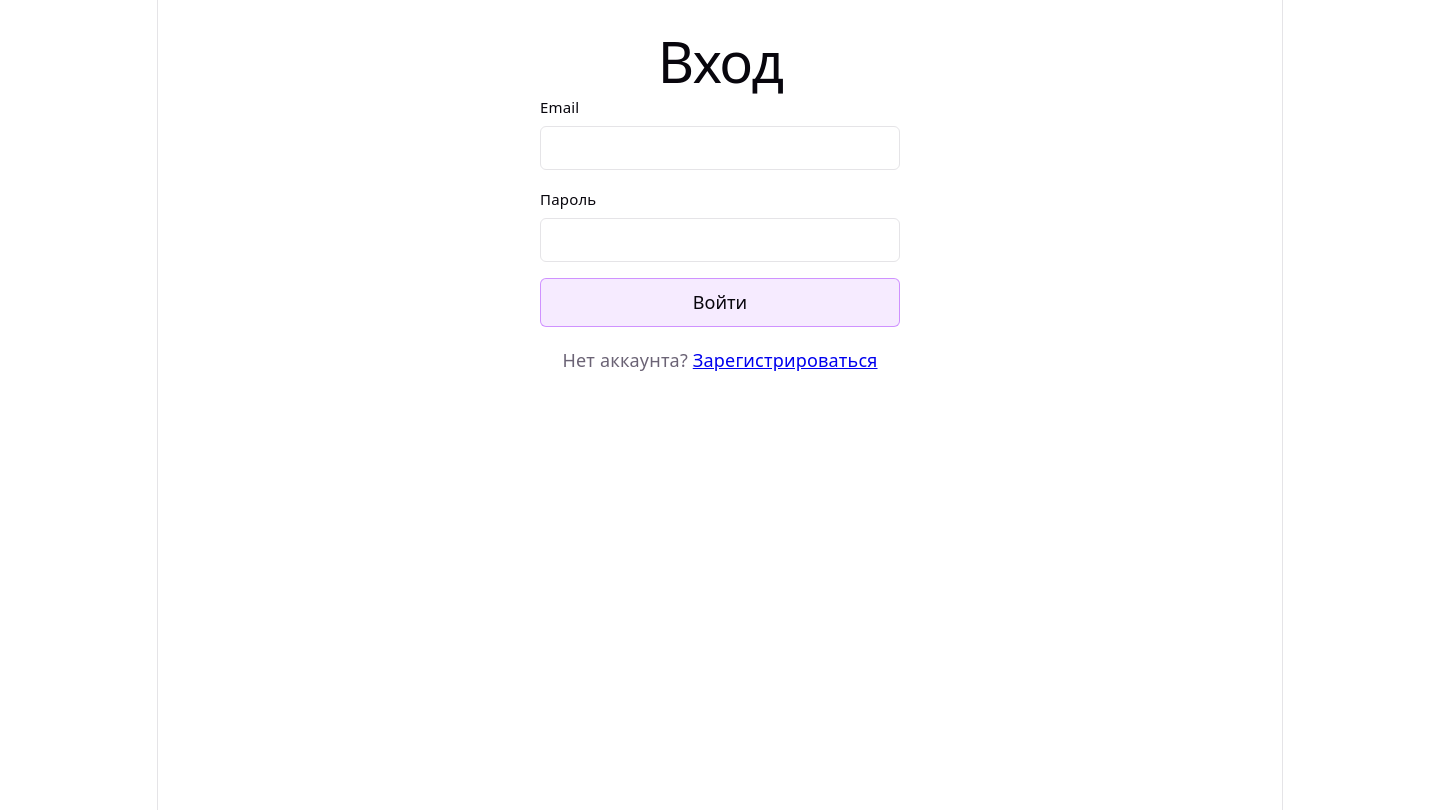
Test: LoginPage › переводит в аутентифицированное состояние при успешном входе
Type "user@example.com" into the field labelled "Email" at (720, 148), box 540,126 -> 900,170
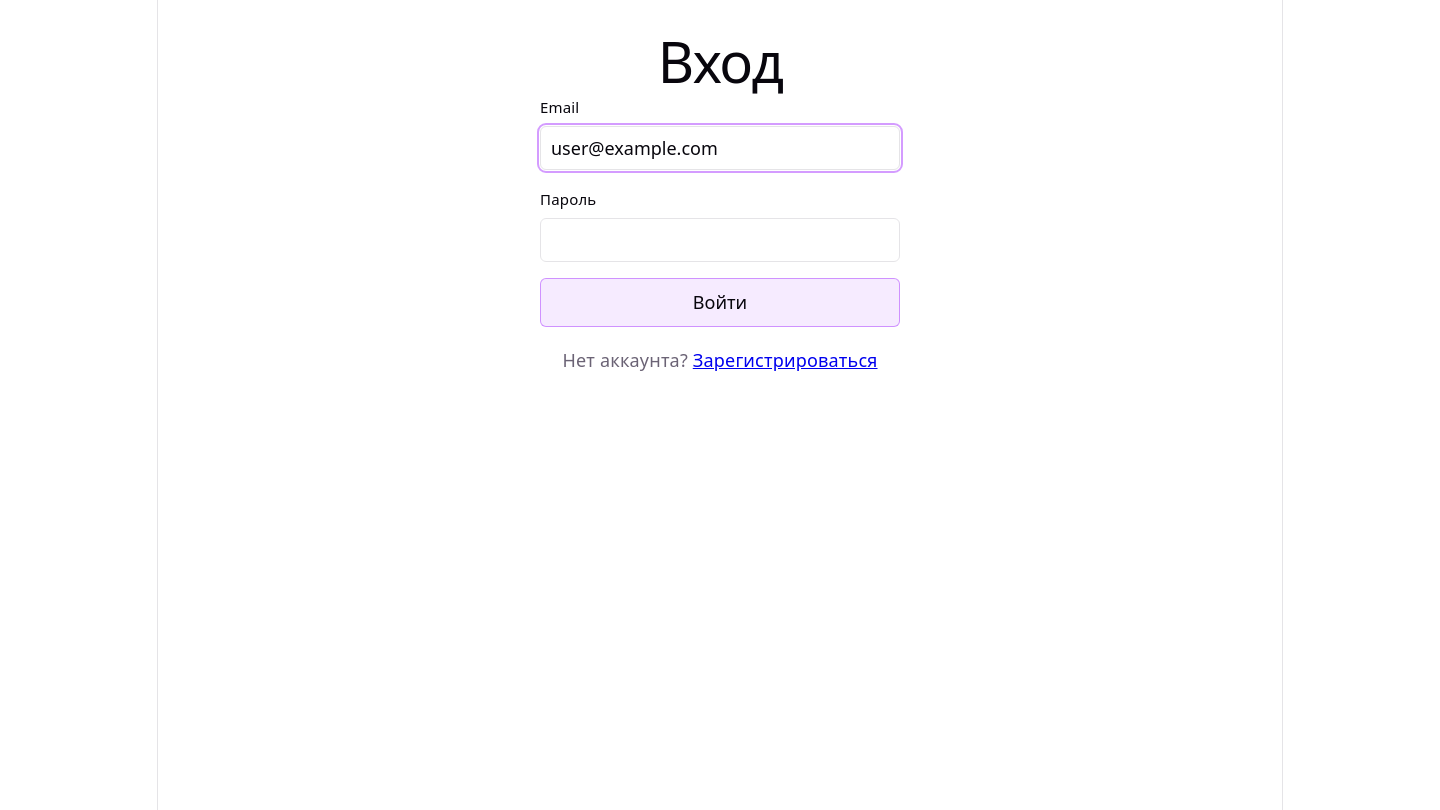
Type "secret123" into the password field labelled "Пароль" at (720, 240), box 540,218 -> 900,262
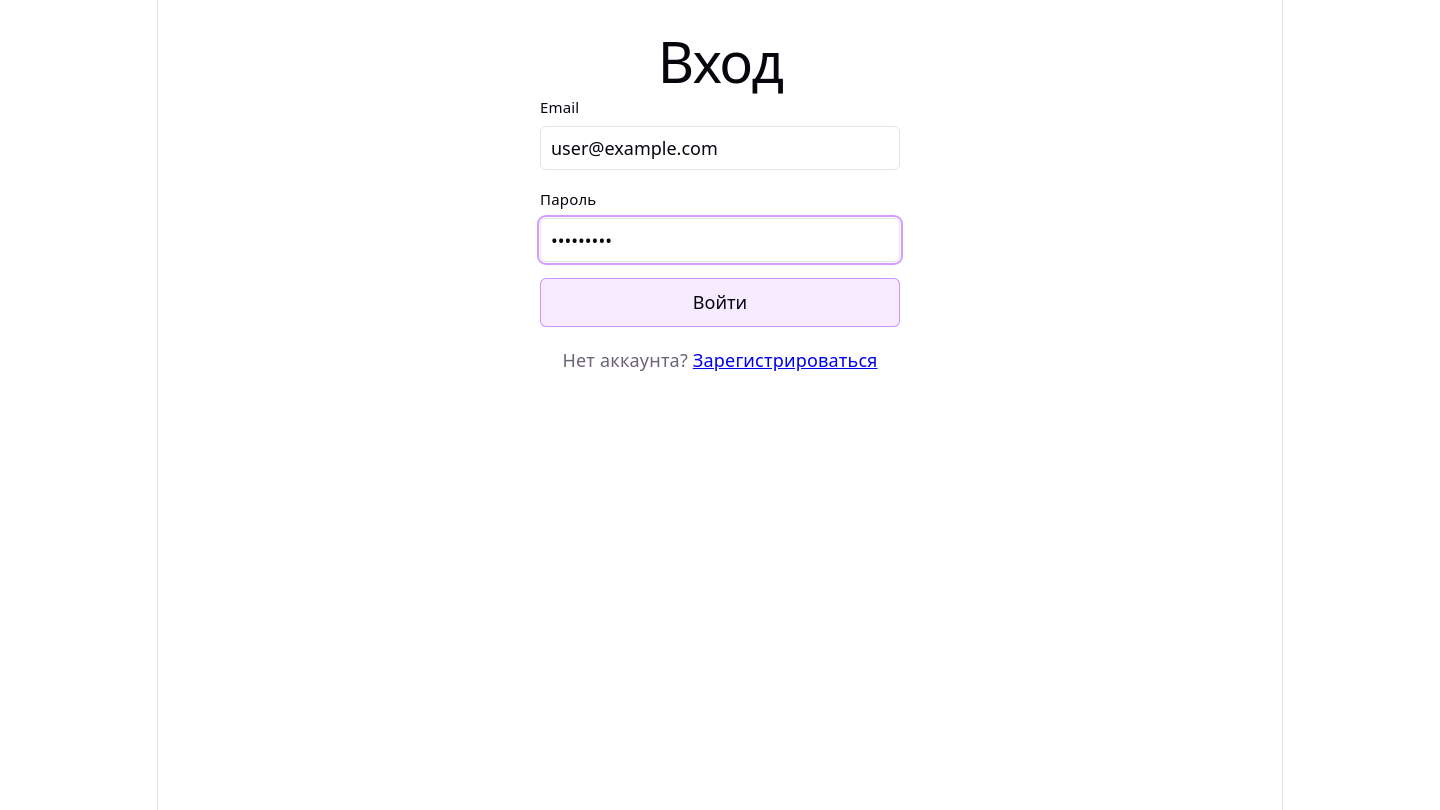
Click the button "Войти" at (720, 303), box 540,278 -> 900,327
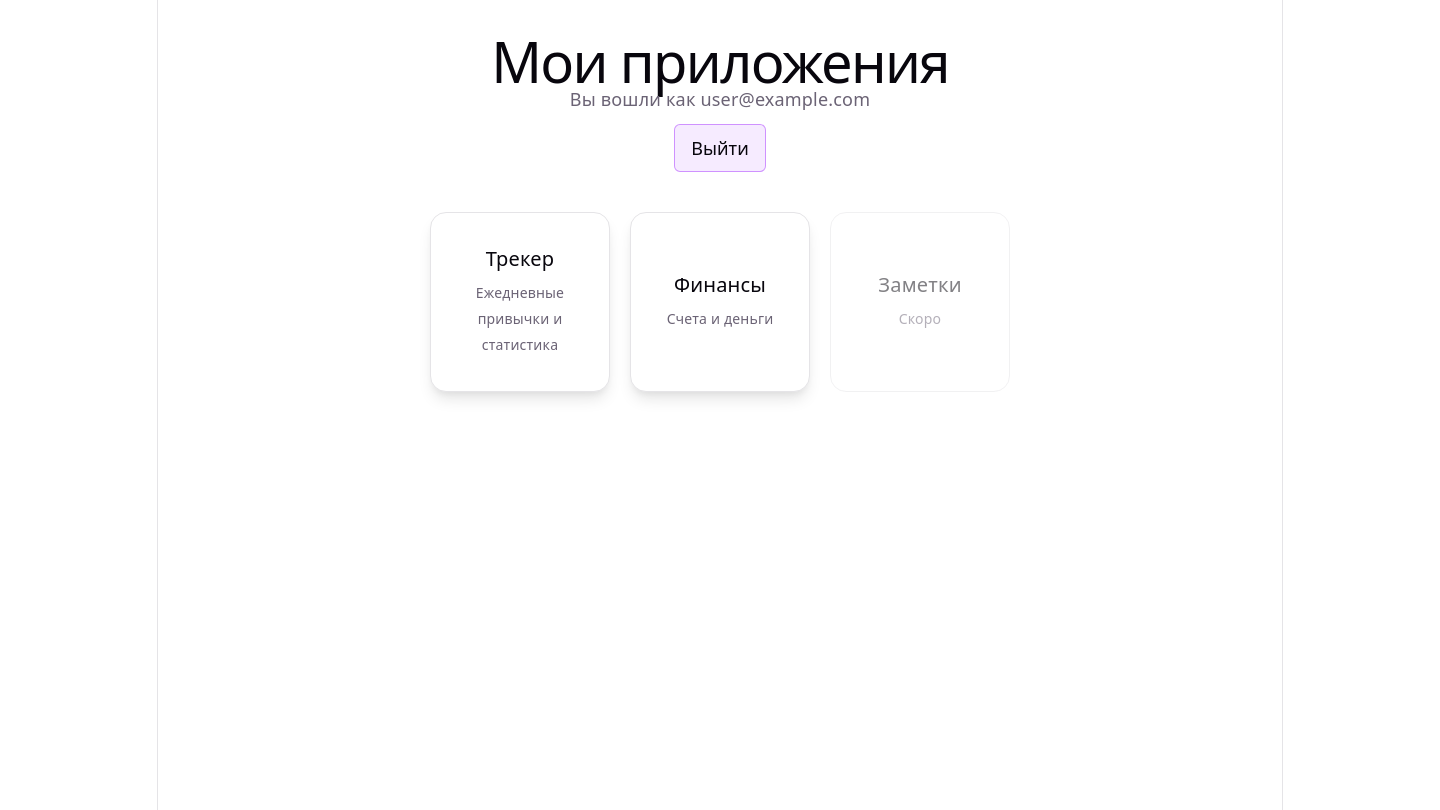
Check: the heading "Мои приложения" is shown, box 491,48 -> 949,74
Check: the text "Вы вошли как user@example.com" is shown, box 570,86 -> 870,112
